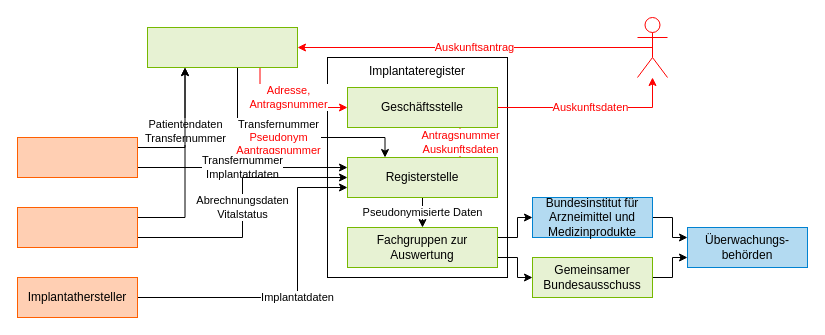
Image size: 825x335. Some labels were removed from this diagram. The centre of each missing label's shape, as x and y in pixels:
"GKV/PKV" goes at point (77, 227).
"Krankenhäuser" goes at point (77, 157).
"Patient" goes at point (652, 47).
"Vertrauensstelle" goes at point (222, 47).
